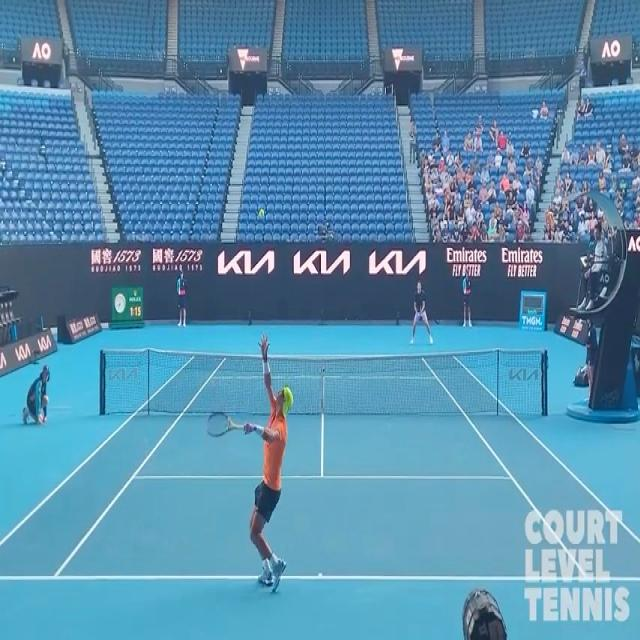serve_toss: (205, 331, 306, 608)
